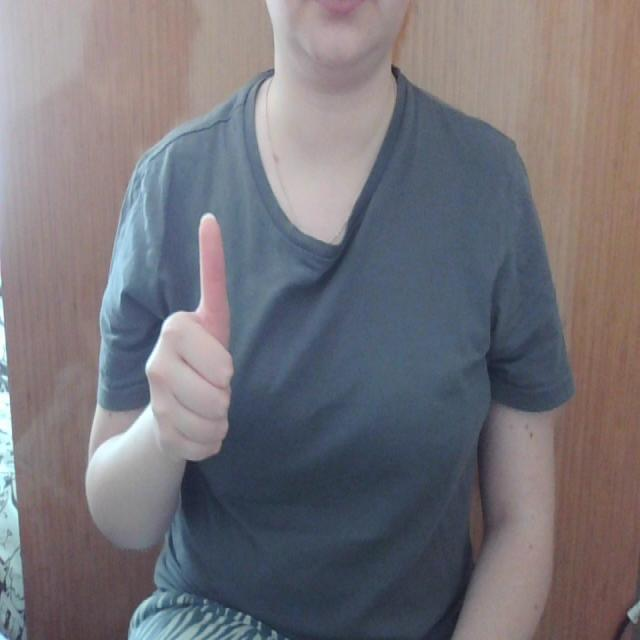Tamam: (144, 211, 242, 474)
